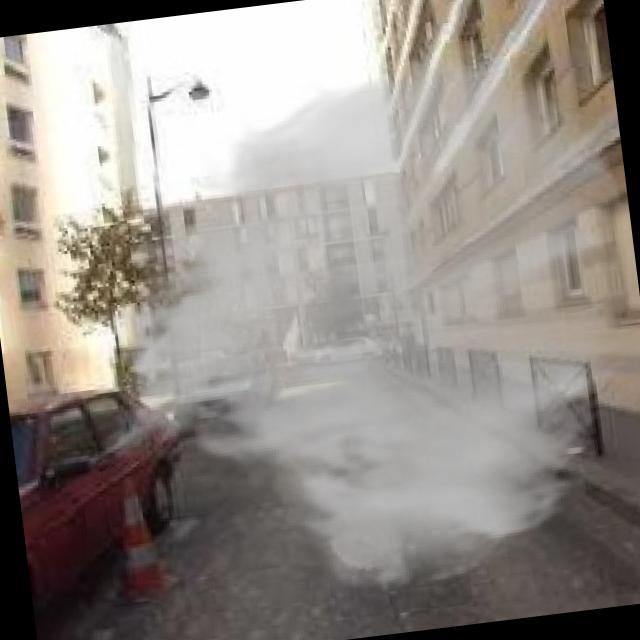Smoke: (59, 26, 640, 626)
